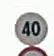limite 40: (14, 11, 48, 45)
